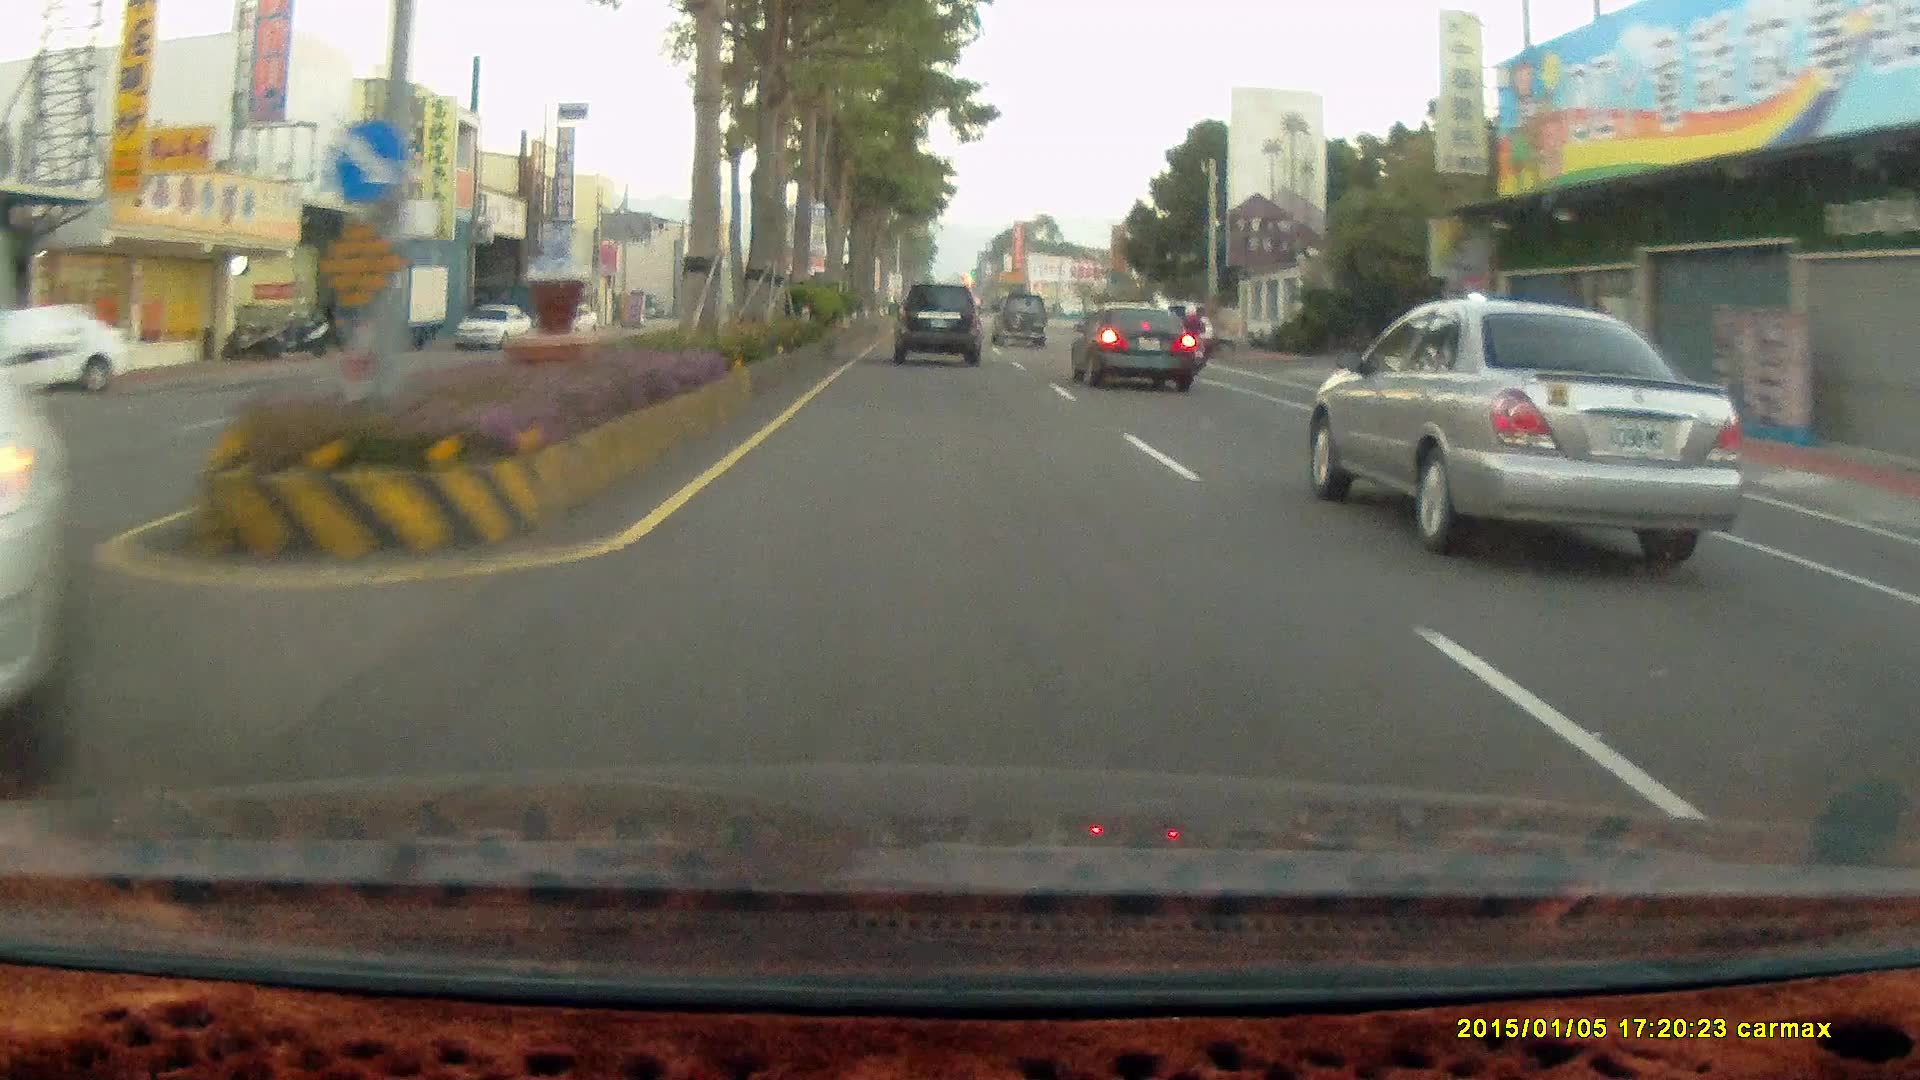rider: (1167, 301, 1213, 376)
vehicle: (1299, 297, 1739, 569), (0, 270, 69, 794), (1067, 301, 1196, 393), (1, 304, 126, 395), (1073, 306, 1201, 394), (338, 259, 450, 348), (340, 265, 452, 354), (892, 275, 986, 359), (893, 279, 979, 363), (457, 307, 538, 352), (453, 305, 533, 350), (989, 292, 1049, 351)
